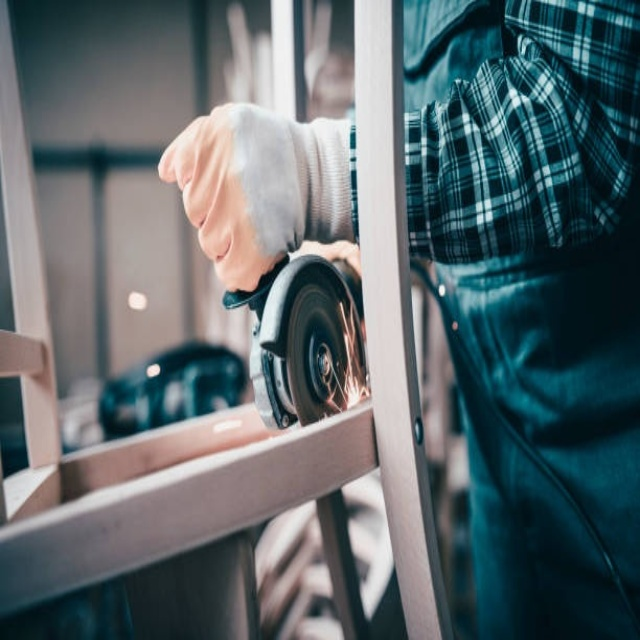Sin_guantes: (156, 96, 358, 295)
